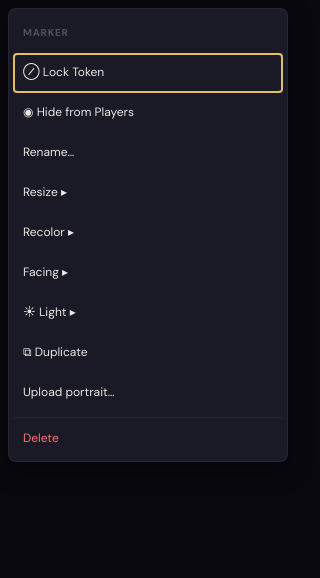
Test: names light colors and preserves the saved selection when a change fails
This screenshot has width=320, height=578.
Click the button "☀ Light ▸" at (49, 312), box top-left (13, 293), bottom-right (283, 333)
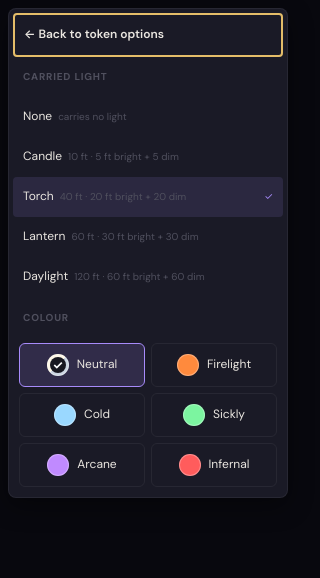
Click the button "Firelight" at (214, 365), box top-left (151, 343), bottom-right (277, 387)
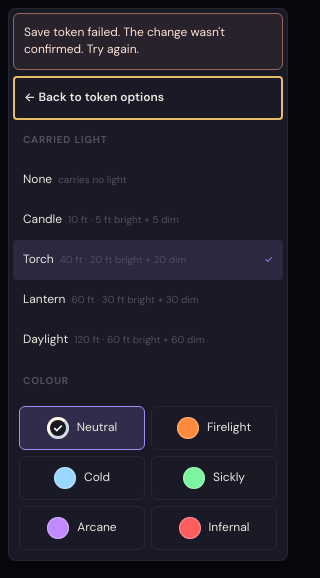
Expected: the message "Save token failed. The change wasn't confirmed. Try again." is shown, top-left (13, 13), bottom-right (283, 70)
